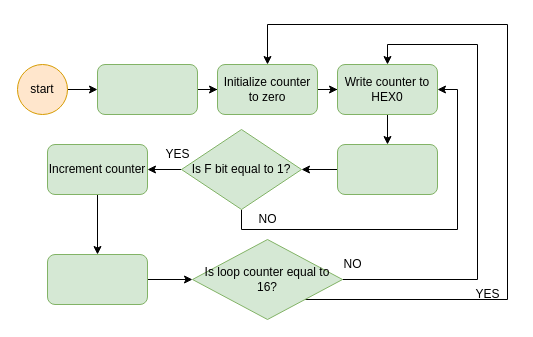
The diagram is 533 pixels wide and 337 high, and some of its shapes have lost their labels. Each missing label, with the box of its shape:
Clear interrupt status (F bit): (46, 254, 148, 304)
Configure timer: (96, 64, 198, 114)
Poll interrupt status bit (F bit): (336, 144, 438, 194)
